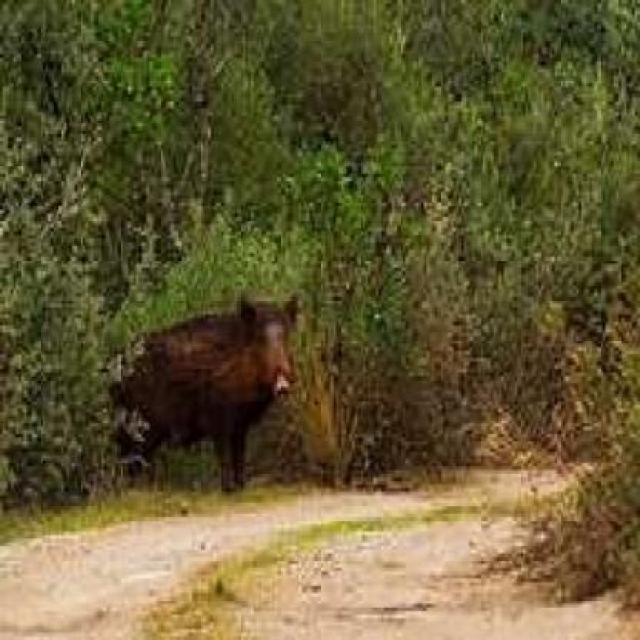WildBoar: (135, 285, 307, 469)
